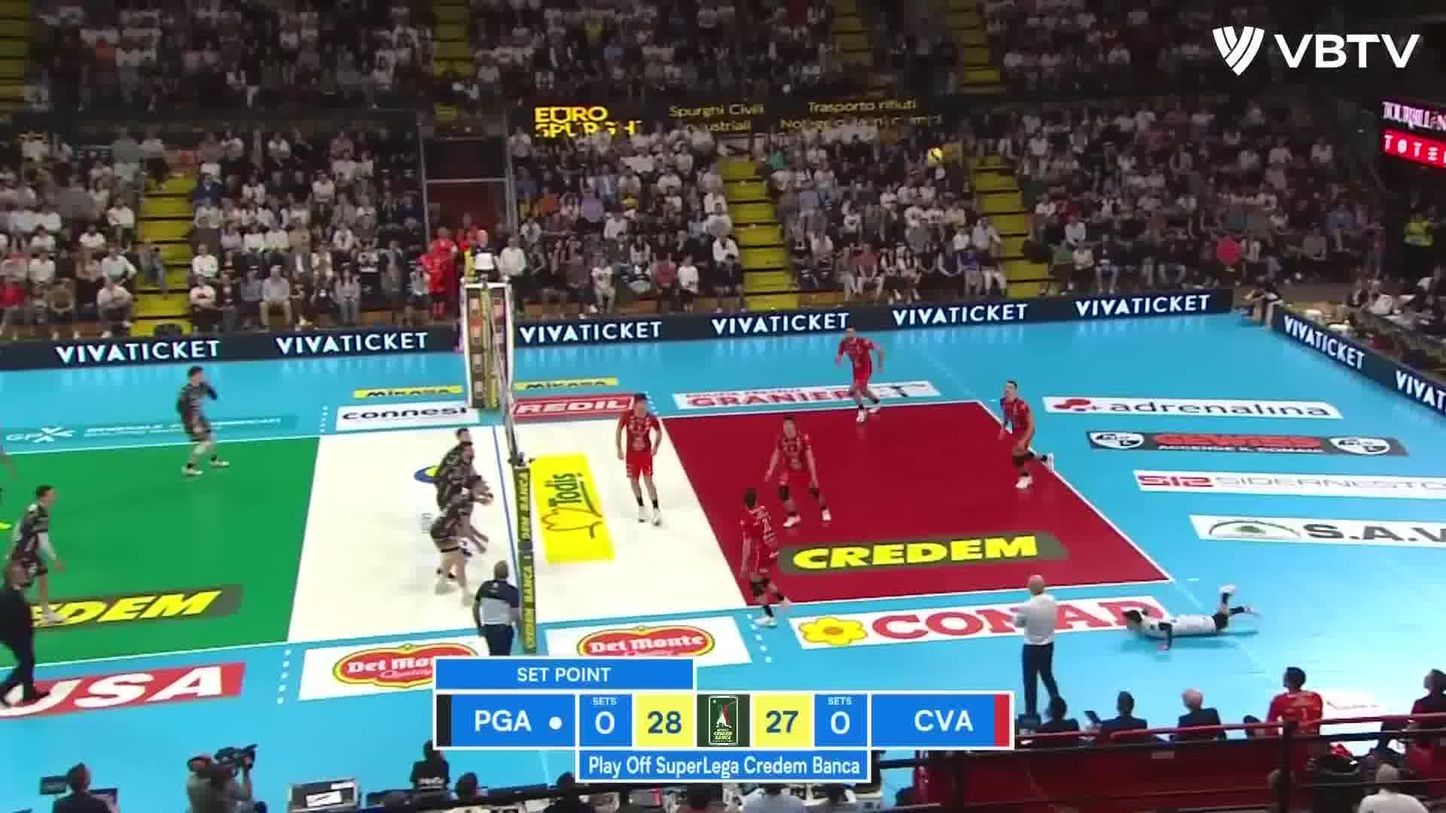balls: (926, 145, 946, 164)
